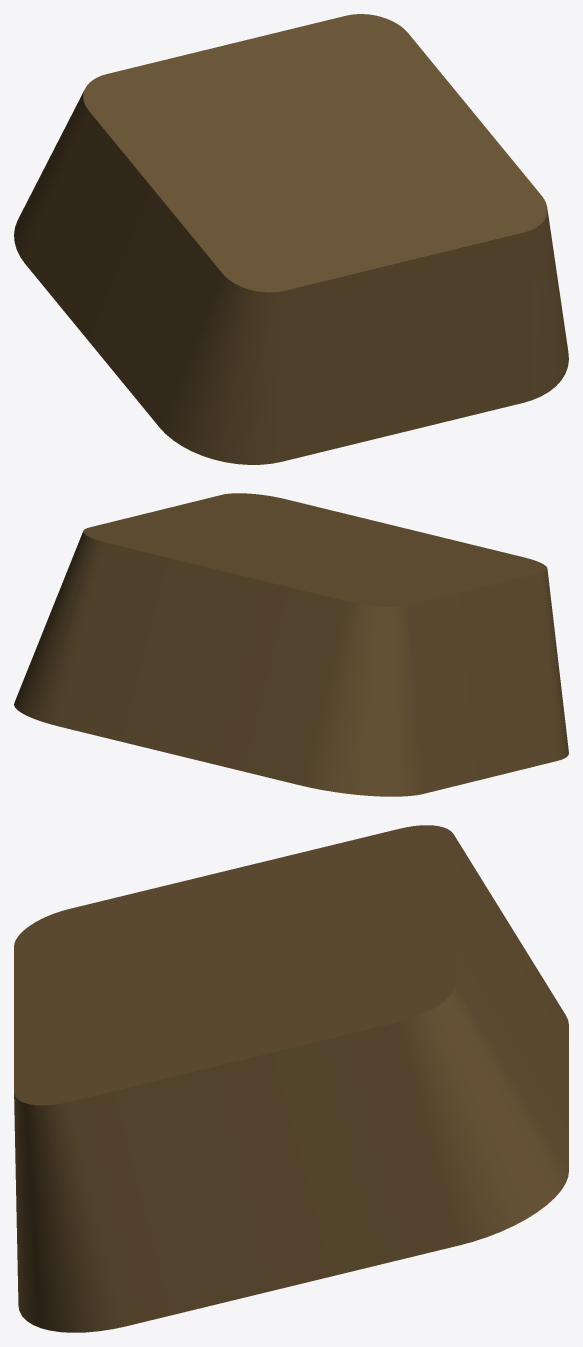
Rendered from original-74.obj.
3 views of the same model, one above another, from view 1: azimuth 30°, elevation 25°; view 2: azimuth 150°, elevation 25°; view 3: azimuth 270°, elevation 25° (orthographic). The views are drawn at different scales.
Parts seen in each view (by area): view 1: Grouper_1_61/Grouper_1/mesh29/mesh29-geometry#mesh29-geometry; view 2: Grouper_1_61/Grouper_1/mesh29/mesh29-geometry#mesh29-geometry; view 3: Grouper_1_61/Grouper_1/mesh29/mesh29-geometry#mesh29-geometry.
Part boxes in pixels (x1,y1,x2,y2): Grouper_1_61/Grouper_1/mesh29/mesh29-geometry#mesh29-geometry: [14, 14, 568, 464]; Grouper_1_61/Grouper_1/mesh29/mesh29-geometry#mesh29-geometry: [14, 493, 568, 796]; Grouper_1_61/Grouper_1/mesh29/mesh29-geometry#mesh29-geometry: [14, 825, 568, 1332].
Size of the model in its own units: 0.0803 by 0.0498 by 0.0782.
